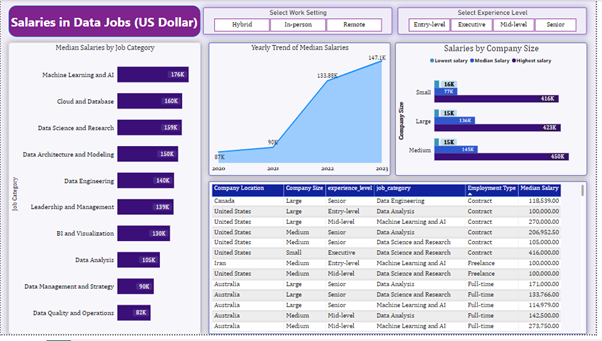

Layout of this report page (visuals, bound fields, positions):
{"tool":"powerbi","page":{"name":"Page 1","canvas":[1532,862],"ordinal":0},"visuals":[{"type":"clusteredBarChart","title":"Salaries by Company Size","fields":{"Category":["jobs_in_data.company_size"],"Y":["jobs_in_data.Lowest salary","jobs_in_data.Median Salary","jobs_in_data.Highest salary"]},"box":[1016.2,110.4,494.1,343.4],"z":0},{"type":"areaChart","title":"Yearly Trend of Median Salaries","fields":{"Category":["jobs_in_data.work_year"],"Y":["jobs_in_data.Median Salary"]},"box":[536.1,110.4,467.8,343.4],"z":1000},{"type":"barChart","title":"Median Salaries by Job Category","fields":{"Y":["jobs_in_data.Median Salary"],"Category":["jobs_in_data.job_category"]},"box":[21.3,109.9,494.7,751.8],"z":2000},{"type":"slicer","title":"Select Experience Level","fields":{"Values":["jobs_in_data.experience_level"]},"box":[1023.2,19.3,487.1,70.1],"z":3000},{"type":"tableEx","fields":{"Values":["jobs_in_data.company_location","jobs_in_data.company_size","jobs_in_data.experience_level","jobs_in_data.job_category","jobs_in_data.employment_type","jobs_in_data.Median Salary"]},"box":[536.1,467.8,974.1,394.2],"z":4000},{"type":"slicer","title":"Select Work Setting","fields":{"Values":["jobs_in_data.work_setting"]},"box":[522.1,19.3,487.1,70.1],"z":5000},{"type":"shape","box":[21,14,494.1,80.6],"z":6000}]}

Visuals, with their boxes in screenshot pixels (x1, y1, x2, y2), scaled from the page's 1532x862 canvas onto the 602x341 screenshot:
"Salaries by Company Size" clusteredBarChart: bbox=(399, 44, 593, 180)
"Yearly Trend of Median Salaries" areaChart: bbox=(211, 44, 394, 180)
"Median Salaries by Job Category" barChart: bbox=(8, 43, 203, 340)
"Select Experience Level" slicer: bbox=(402, 8, 593, 35)
tableEx - jobs_in_data.company_location x jobs_in_data.company_size: bbox=(211, 185, 593, 340)
"Select Work Setting" slicer: bbox=(205, 8, 397, 35)
shape: bbox=(8, 6, 202, 37)
